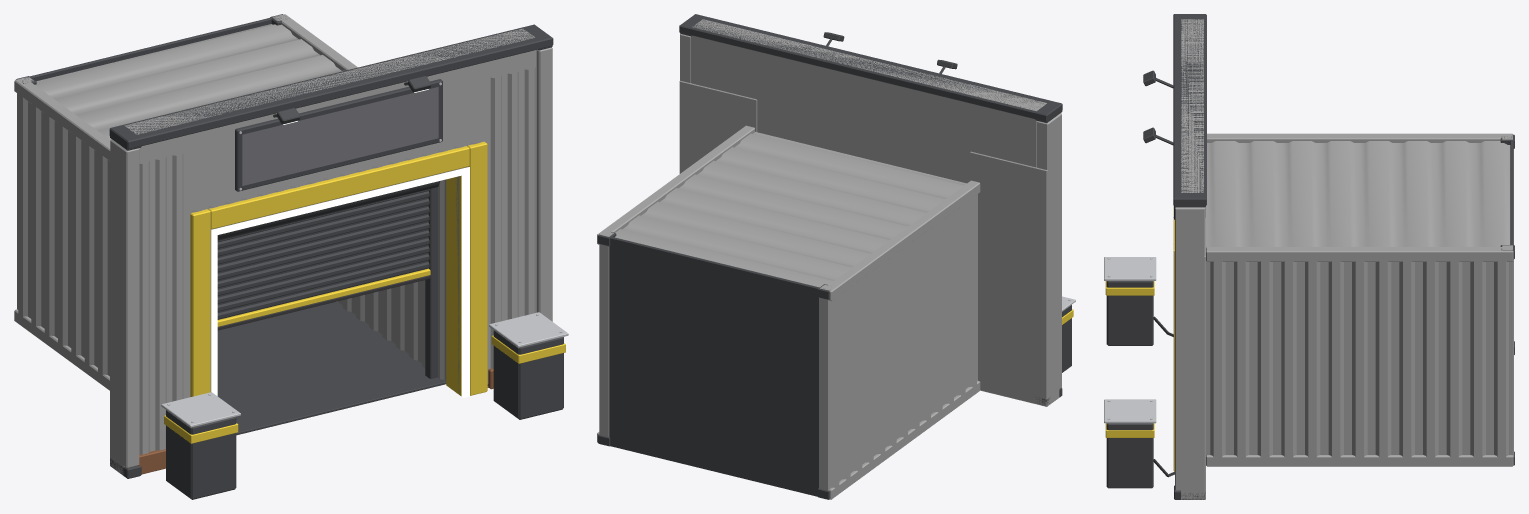
The model's file is entrance_gate.glb.
3 views of the same model, side by side, from view 1: azimuth 30°, elevation 25°; view 2: azimuth 150°, elevation 25°; view 3: azimuth 270°, elevation 25° (orthographic). The views are drawn at different scales.
Visible parts, largest first — view 1: entrance_gate; view 2: entrance_gate; view 3: entrance_gate.
Part boxes in pixels (<box>): entrance_gate: <box>14,14,568,499</box>; entrance_gate: <box>597,14,1075,499</box>; entrance_gate: <box>1104,14,1514,499</box>.
Size of the model in its own units: 5.21 by 4 by 4.87.
